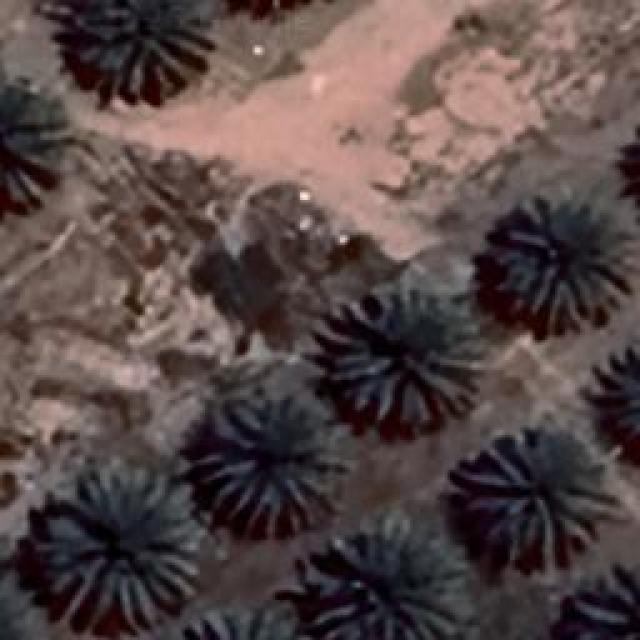PalmTree: (41, 465, 200, 628), (295, 512, 470, 638), (195, 398, 348, 538), (330, 285, 482, 425), (454, 430, 608, 568), (490, 192, 635, 332), (68, 0, 210, 95), (0, 77, 62, 207), (574, 560, 638, 638), (185, 608, 308, 638), (602, 351, 640, 441), (0, 573, 36, 640), (230, 0, 322, 19)
